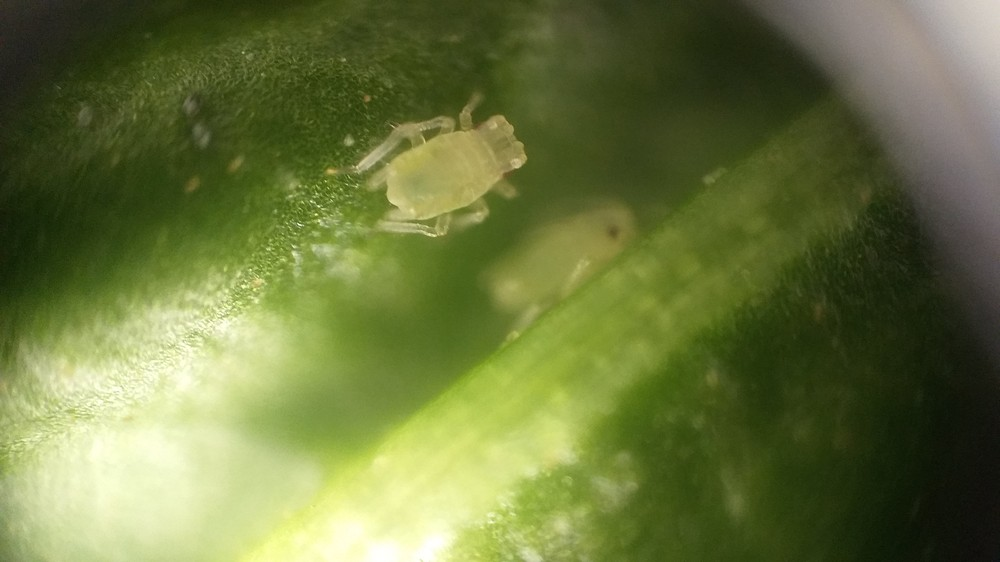Pulgon: (336, 82, 550, 235), (473, 190, 655, 347)
